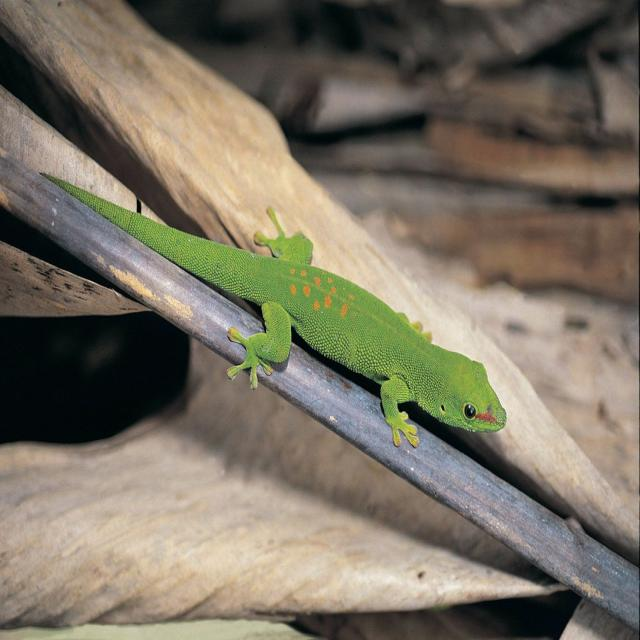Lizard: (38, 167, 512, 454)
